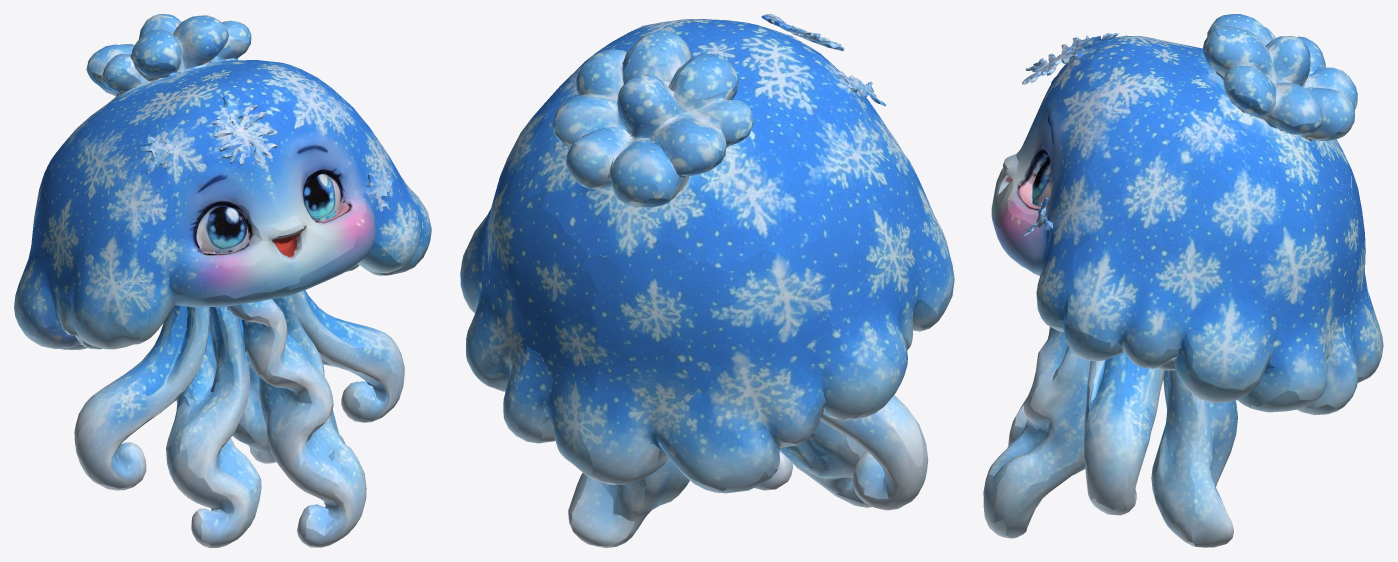
The model's file is frostjelly.glb.
3 views of the same model, side by side, from view 1: azimuth 30°, elevation 25°; view 2: azimuth 150°, elevation 25°; view 3: azimuth 270°, elevation 25° (orthographic). The views are drawn at different scales.
Visible parts, largest first — view 1: textured_mesh.obj; view 2: textured_mesh.obj; view 3: textured_mesh.obj.
Boxes of the visible parts, left/top/right/bottom form: textured_mesh.obj: left=14, top=14, right=431, bottom=547; textured_mesh.obj: left=460, top=14, right=954, bottom=547; textured_mesh.obj: left=983, top=14, right=1383, bottom=547.
Size of the model in its own units: 0.8226 by 1 by 0.7325.
1 material, 1 textured.
